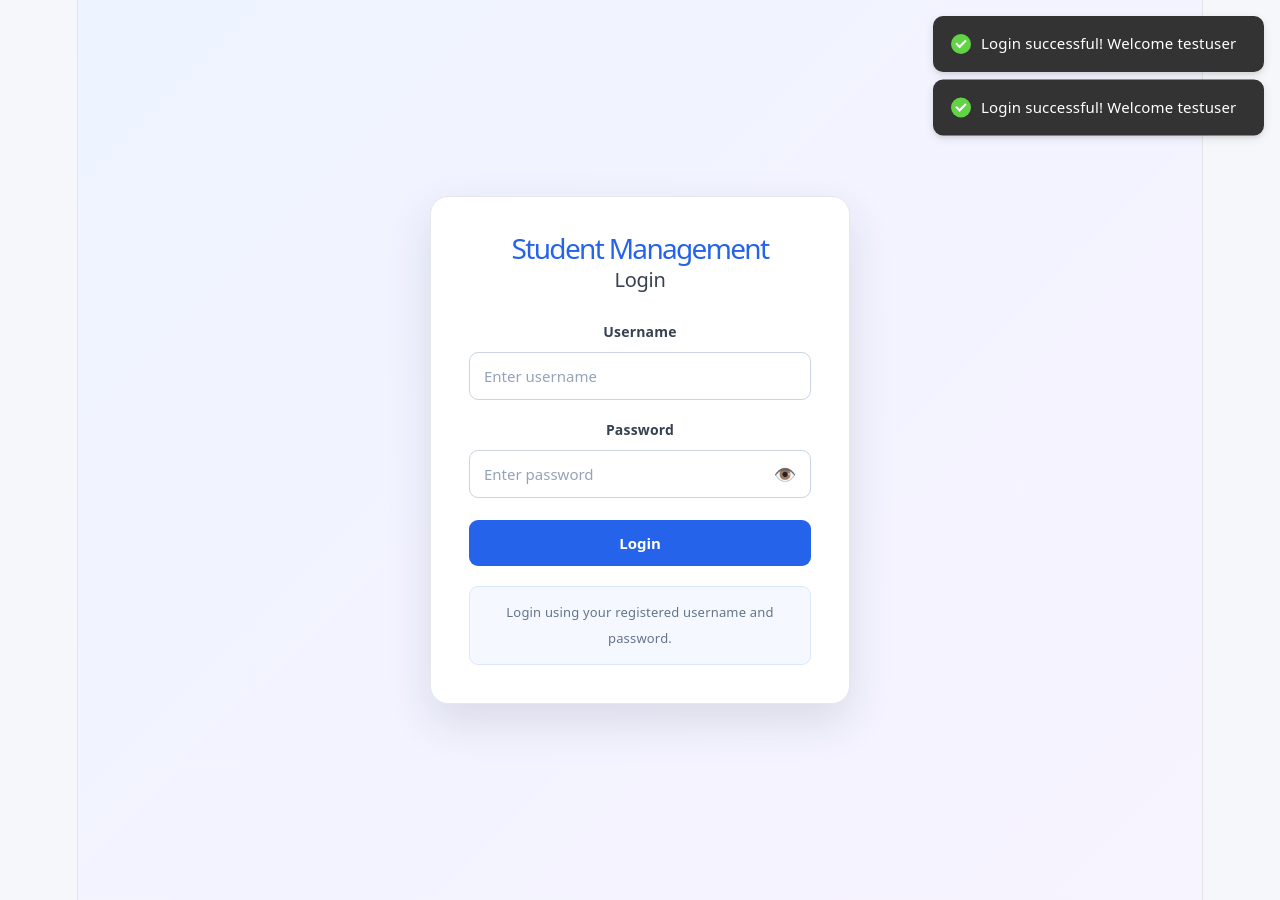
displays all fields in the Create New User form
The image size is (1280, 900).
Type "testuser" into the field labelled "Username".
click(640, 376); type("testuser")  # box [469,352,811,400]
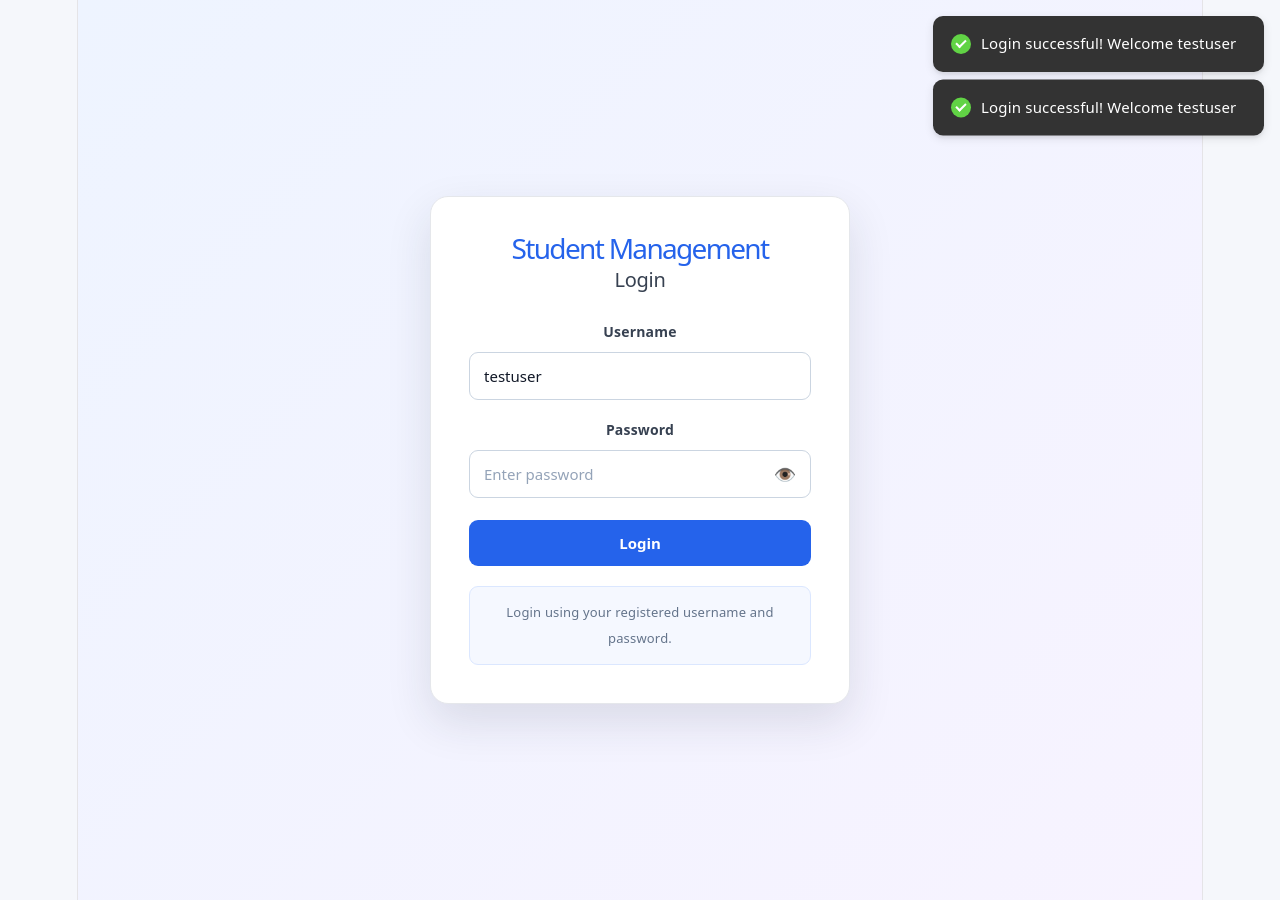
Type "correctpassword" into the password field labelled "Password".
click(640, 474); type("correctpassword")  # box [469,450,811,498]
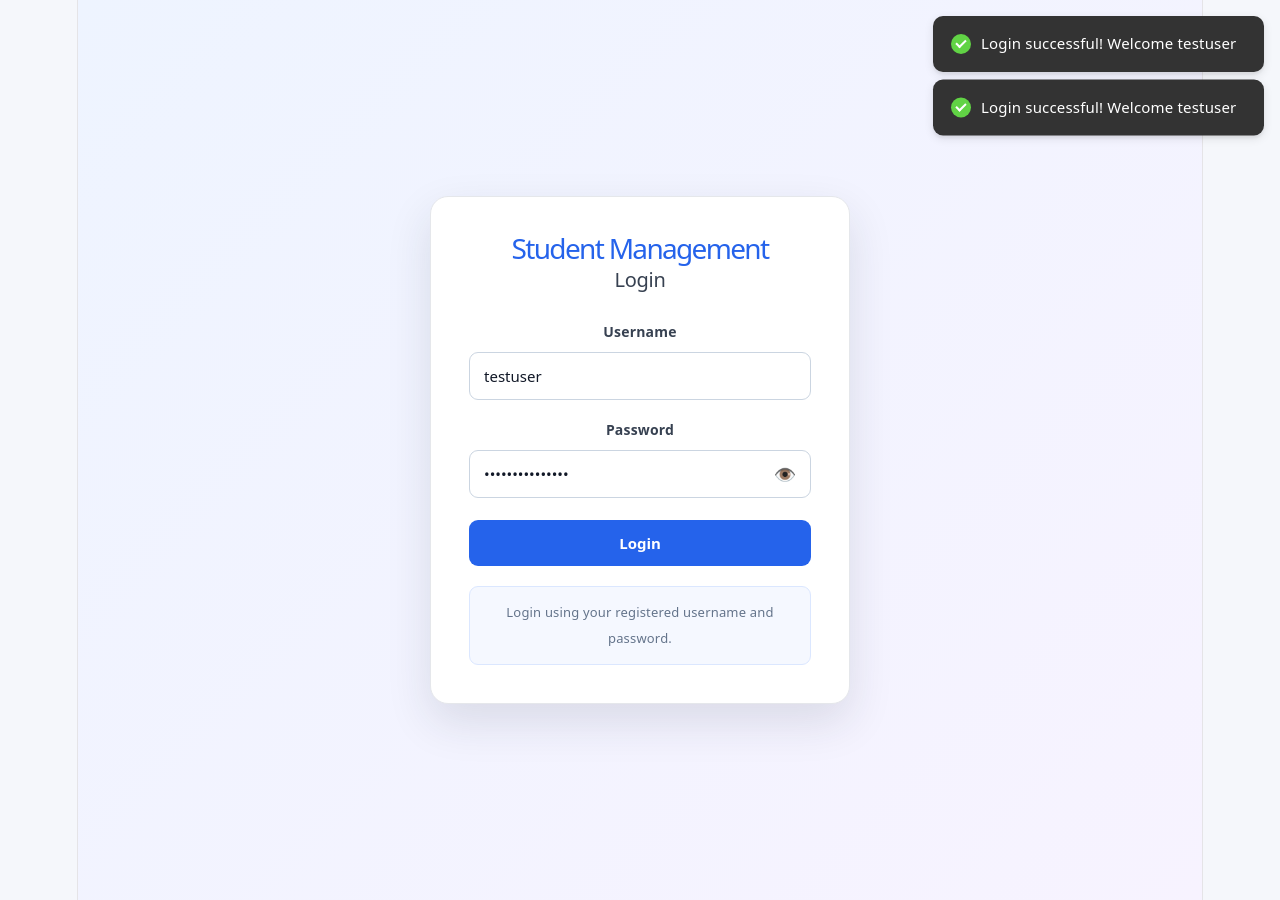
Click the button "Login".
click(640, 543)  # box [469,520,811,566]
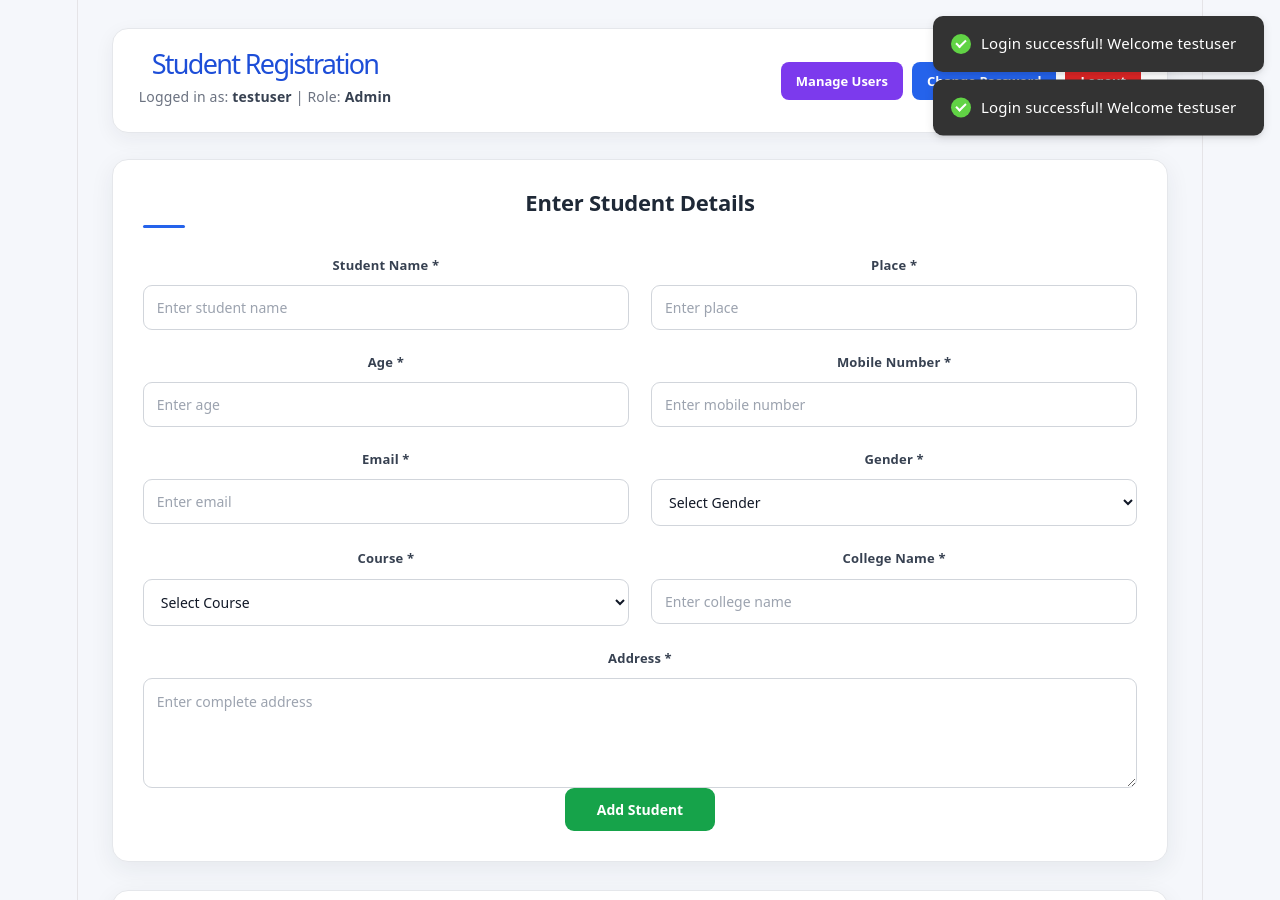
Now the heading "Student Registration" is shown, box [139,51,391,77]
Click the button "Manage Users".
click(842, 81)  # box [781,62,903,100]
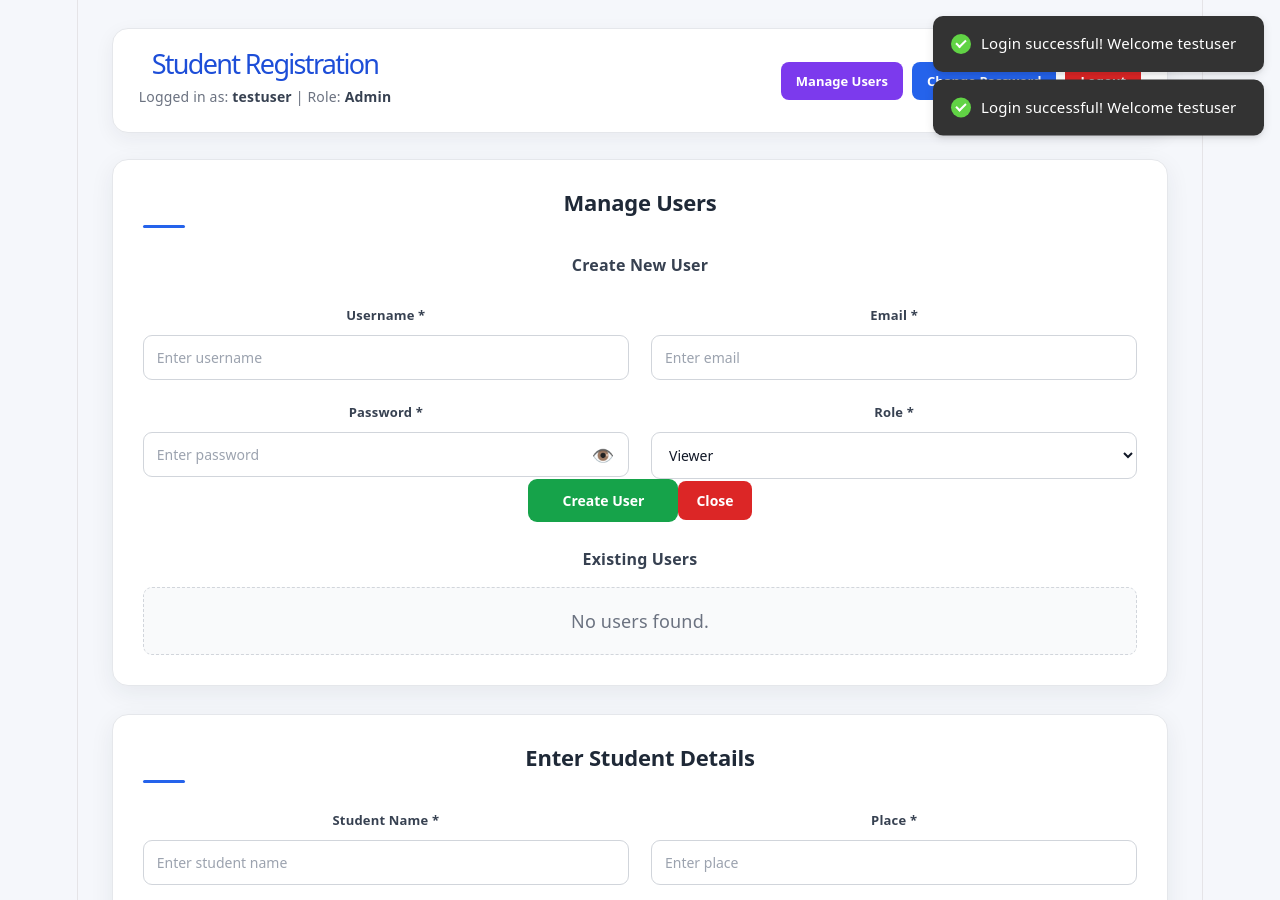
Now the field labelled "Username *" is shown, box [143,335,629,380]
Now the field labelled "Email *" is shown, box [651,335,1137,380]
Now the password field with id "user-management-password" is shown, box [143,432,629,477]
